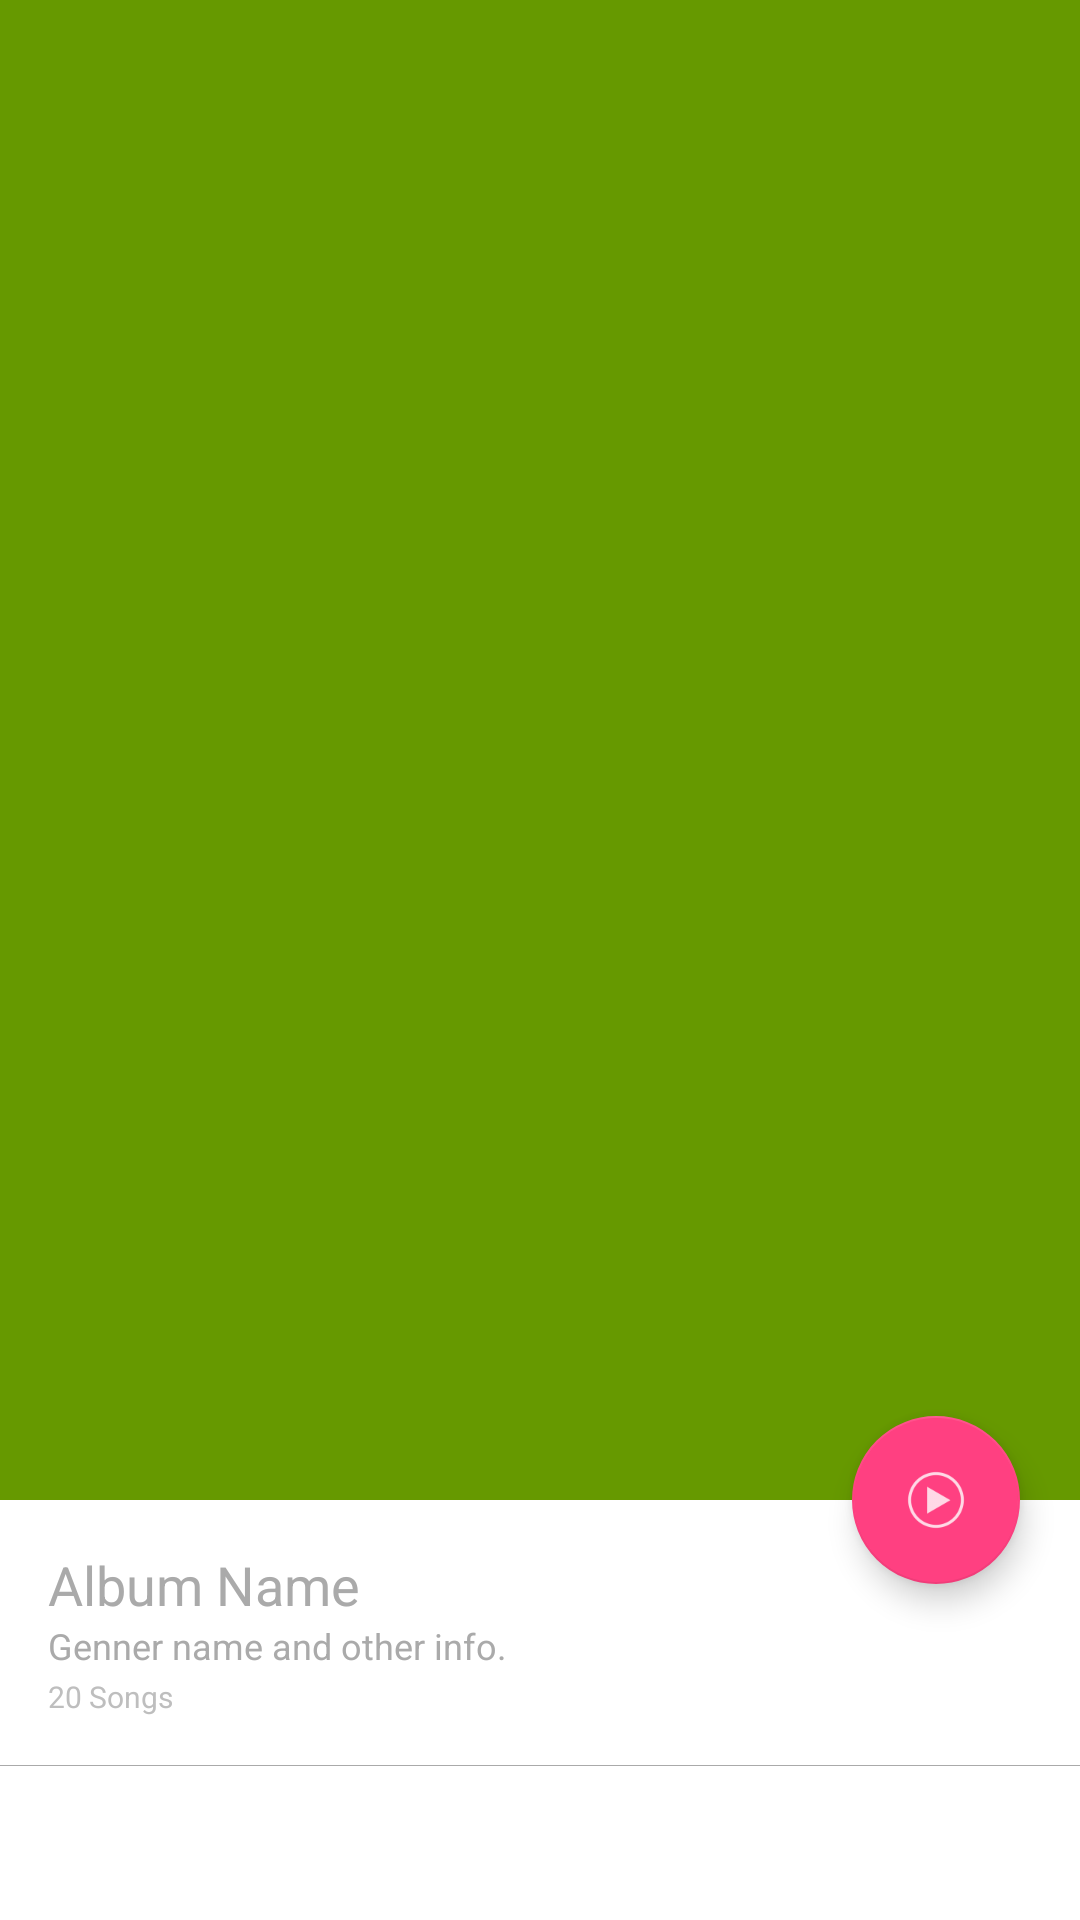

Icons on this 1080px×1920px Android screen, each with the point to tap as (x,y):
play circle: (936,1500)
